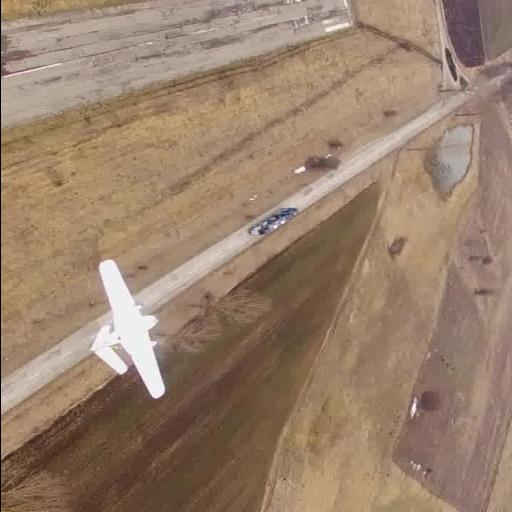uav: (80, 256, 180, 410)
